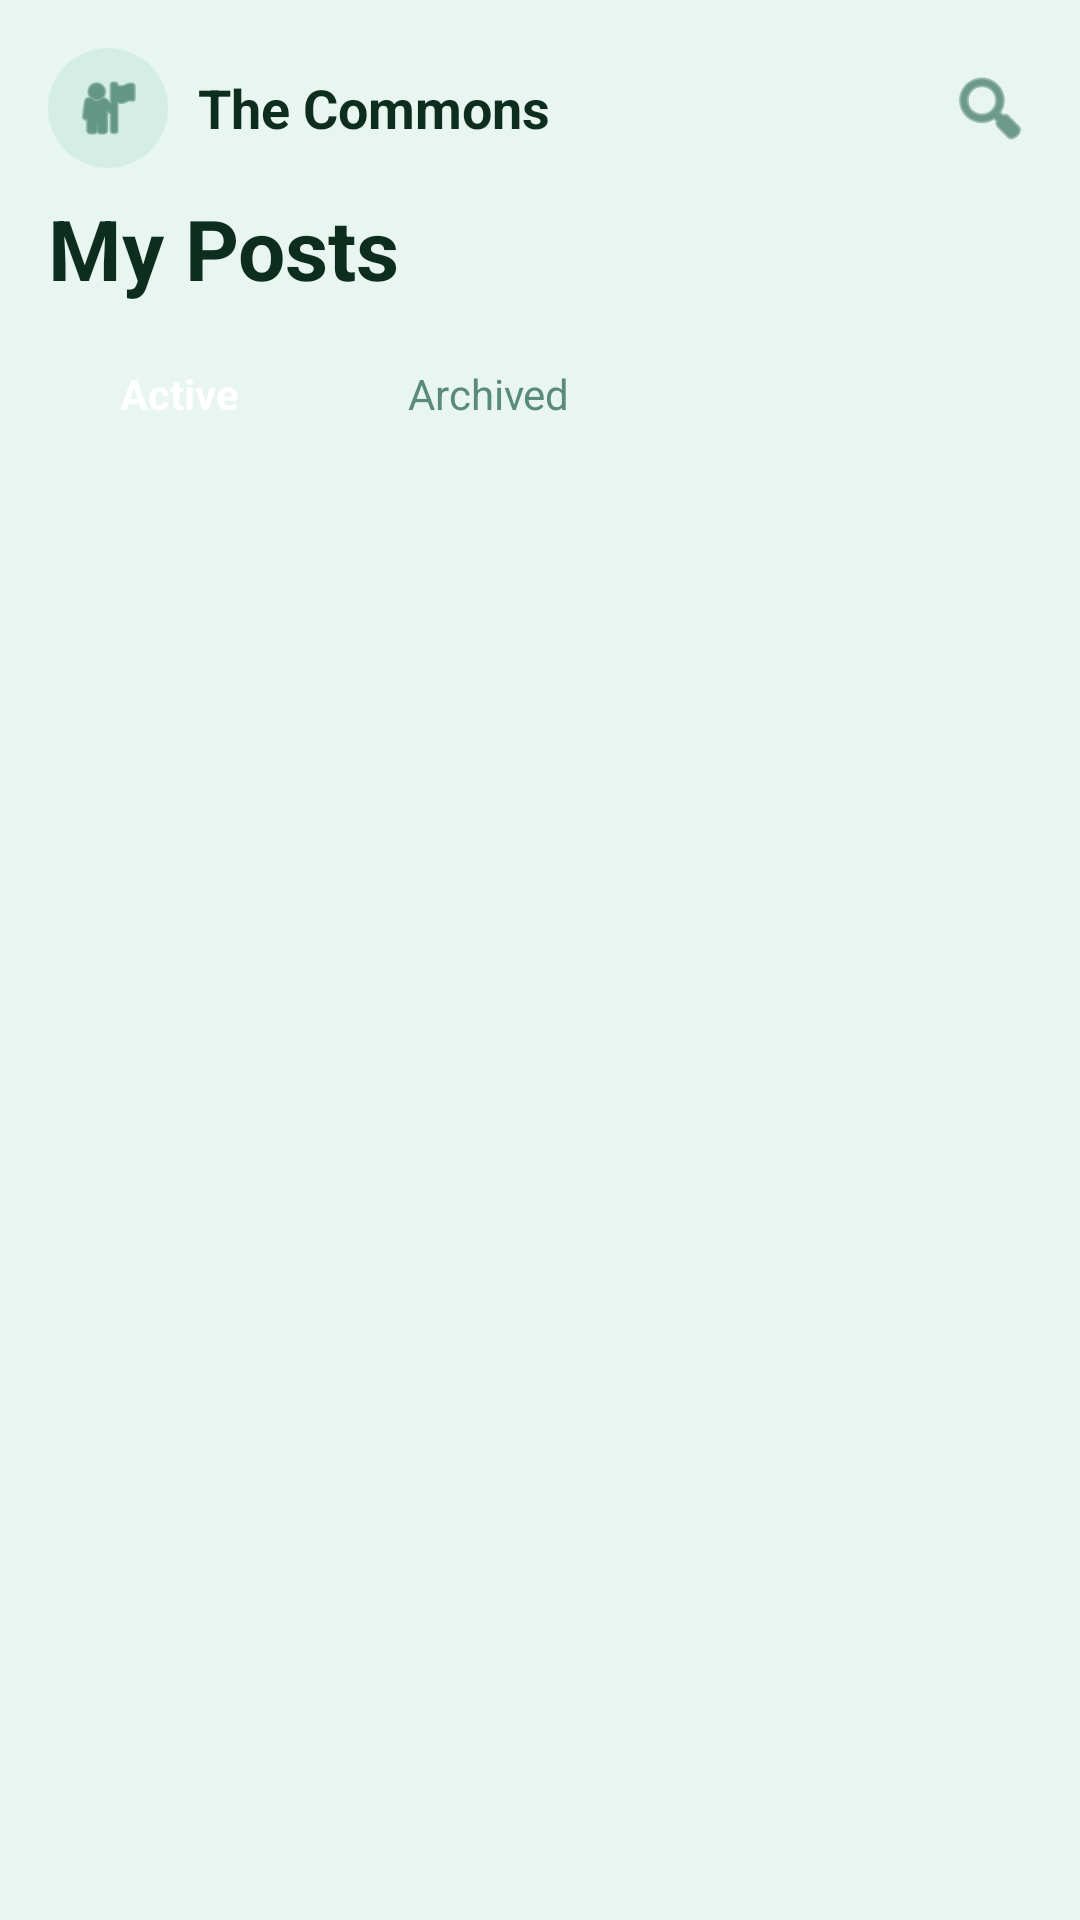

Locate icon controls on the screen. Image size 1080w x 1920h, boxes as (x1, y1, x2, y2).
search: (959, 77, 1021, 140)
